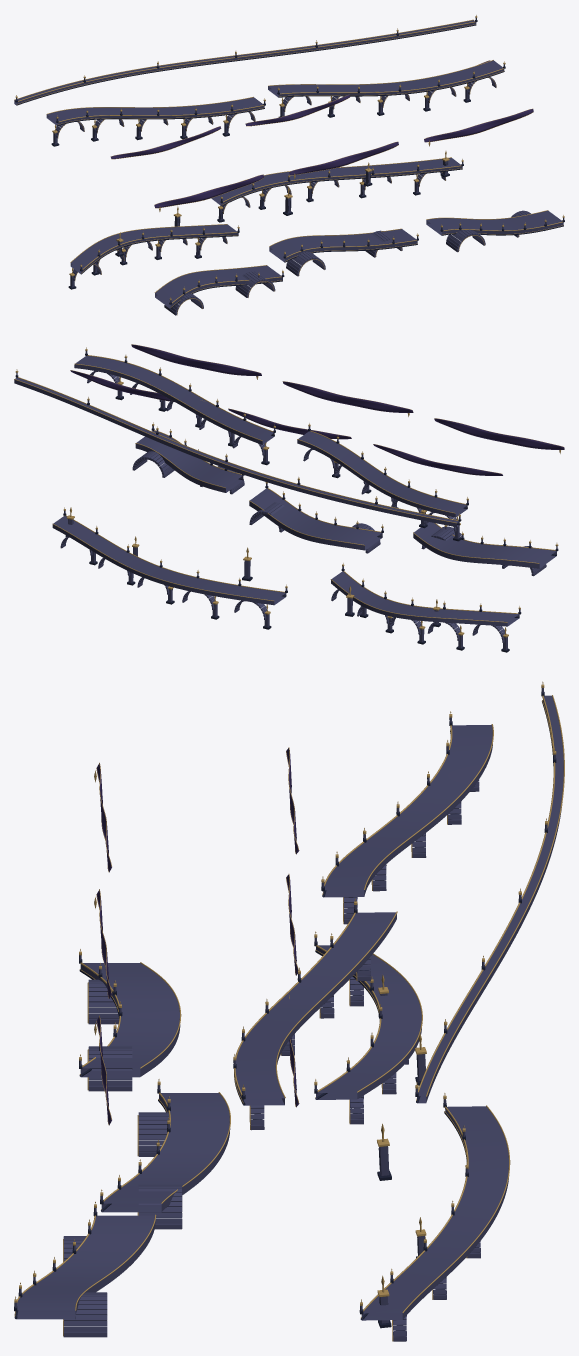
File: rei_realm.glb
3 views of the same model, one above another, from view 1: azimuth 30°, elevation 25°; view 2: azimuth 150°, elevation 25°; view 3: azimuth 270°, elevation 25° (orthographic). The views are drawn at different scales.
Parts seen in each view (by area): view 1: Rei gallery 3 curved viaduct, Rei gallery 1 curved viaduct, Rei gallery 2 curved viaduct, Rei upper distant orbit curved viaduct, Rei foreground orbit 1 curved viaduct, Rei gallery 0 curved viaduct, Rei foreground orbit 2 curved viaduct, Rei foreground orbit 0 curved viaduct, Rei upper distant orbit stepped lower molding, Rei close velvet canopy 1, Rei close velvet canopy 2, Rei close velvet canopy 0 (+9 smaller); view 2: Rei gallery 1 curved viaduct, Rei gallery 3 curved viaduct, Rei upper distant orbit curved viaduct, Rei gallery 2 curved viaduct, Rei foreground orbit 1 curved viaduct, Rei gallery 0 curved viaduct, Rei foreground orbit 0 curved viaduct, Rei foreground orbit 2 curved viaduct, Rei close velvet canopy 0, Rei close velvet canopy 1, Rei close velvet canopy 2, Rei celestial velvet 0 (+5 smaller); view 3: Rei gallery 1 curved viaduct, Rei gallery 3 curved viaduct, Rei gallery 2 curved viaduct, Rei foreground orbit 1 curved viaduct, Rei foreground orbit 2 curved viaduct, Rei foreground orbit 0 curved viaduct, Rei gallery 0 curved viaduct, Rei upper distant orbit curved viaduct, Rei near vaulted foundation voussoirs.005, Rei near vaulted foundation voussoirs.001, Rei near vaulted foundation voussoirs.003, Rei near vaulted foundation voussoirs.002 (+2 smaller).
Part boxes in pixels (x1,y1,x2,y2): Rei gallery 3 curved viaduct: (268,60,504,97); Rei gallery 1 curved viaduct: (211,158,462,205); Rei gallery 2 curved viaduct: (46,97,264,125); Rei upper distant orbit curved viaduct: (14,20,476,105); Rei foreground orbit 1 curved viaduct: (269,229,417,262); Rei gallery 0 curved viaduct: (70,224,238,274); Rei foreground orbit 2 curved viaduct: (426,210,563,235); Rei foreground orbit 0 curved viaduct: (155,265,282,308); Rei upper distant orbit stepped lower molding: (16,24,475,105); Rei close velvet canopy 1: (289,142,398,174); Rei close velvet canopy 2: (424,109,533,142); Rei close velvet canopy 0: (154,174,263,207); Rei gallery 1 curved viaduct: (52,516,286,605); Rei gallery 3 curved viaduct: (74,356,274,444); Rei upper distant orbit curved viaduct: (14,377,459,527); Rei gallery 2 curved viaduct: (297,431,467,517); Rei foreground orbit 1 curved viaduct: (249,488,382,550); Rei gallery 0 curved viaduct: (331,571,519,626); Rei foreground orbit 0 curved viaduct: (413,522,556,568); Rei foreground orbit 2 curved viaduct: (135,431,243,492); Rei close velvet canopy 0: (434,418,564,449); Rei close velvet canopy 1: (283,381,413,412); Rei close velvet canopy 2: (131,344,261,376); Rei celestial velvet 0: (373,444,502,475); Rei gallery 1 curved viaduct: (361,1106,508,1320); Rei gallery 3 curved viaduct: (235,912,396,1105); Rei gallery 2 curved viaduct: (323,724,492,897); Rei foreground orbit 1 curved viaduct: (101,1093,230,1212); Rei foreground orbit 2 curved viaduct: (15,1215,155,1319); Rei foreground orbit 0 curved viaduct: (80,963,180,1077); Rei gallery 0 curved viaduct: (316,945,421,1099); Rei upper distant orbit curved viaduct: (417,695,563,1103); Rei near vaulted foundation voussoirs.005: (63,1292,107,1337); Rei near vaulted foundation voussoirs.001: (88,1046,132,1091); Rei near vaulted foundation voussoirs.003: (138,1184,182,1229); Rei near vaulted foundation voussoirs.002: (138,1112,169,1156).
Size of the model in its own units: 76.33 by 27.43 by 44.18.
